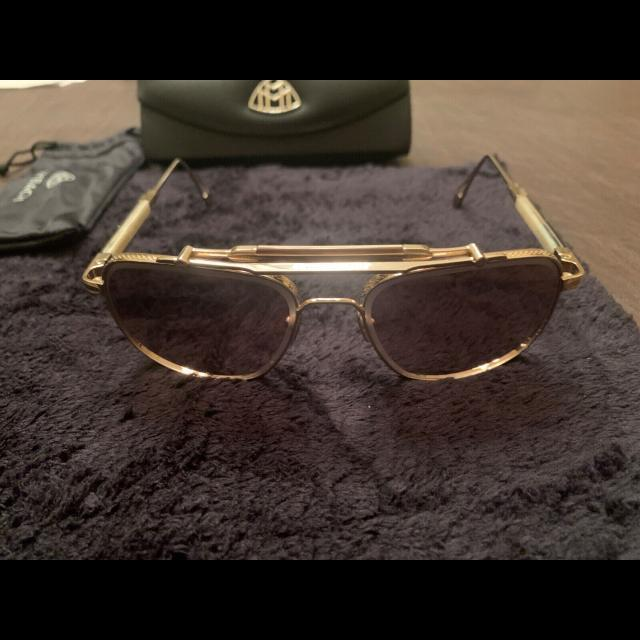glasses: (80, 149, 586, 381)
